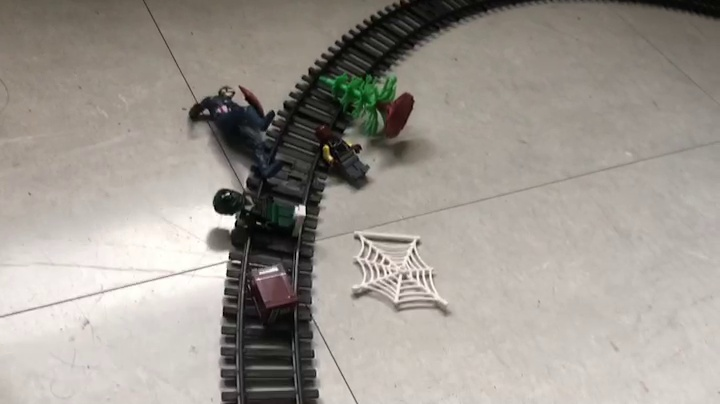box: (247, 263, 298, 329)
people: (189, 86, 287, 184), (213, 187, 309, 242), (313, 125, 372, 187)
tree: (318, 72, 415, 137)
web: (350, 230, 449, 309)
